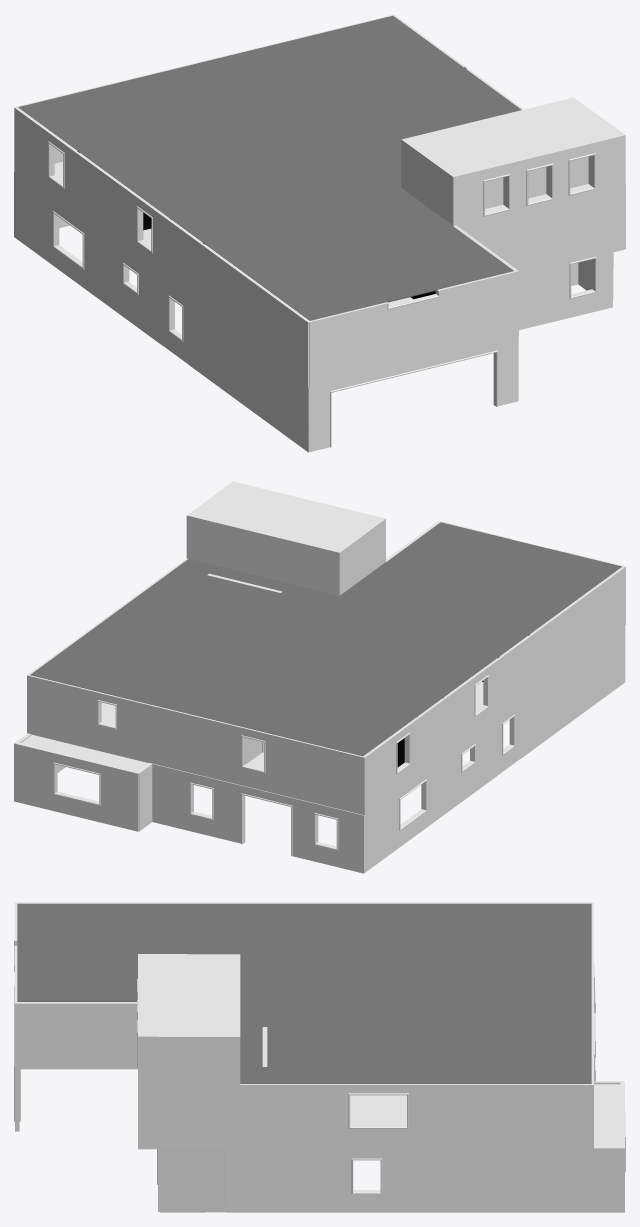
Rendered from Paredes_techoPA.obj.
3 views of the same model, one above another, from view 1: azimuth 30°, elevation 25°; view 2: azimuth 150°, elevation 25°; view 3: azimuth 270°, elevation 25° (orthographic). The views are drawn at different scales.
Visible parts, largest first — view 1: polySurface16 House:Mesh, polySurface74, polySurface124, polySurface96, polySurface193; view 2: polySurface16 House:Mesh, polySurface193, polySurface124, polySurface74, polySurface81, polySurface83, polySurface96, polySurface120; view 3: polySurface16 House:Mesh, polySurface96, polySurface74, polySurface83, polySurface81, polySurface120, polySurface193, polySurface124.
Part boxes in pixels (x1,y1,x2,y2): polySurface16 House:Mesh: [18, 15, 521, 320]; polySurface74: [307, 97, 625, 452]; polySurface124: [14, 107, 309, 450]; polySurface96: [390, 14, 625, 299]; polySurface193: [15, 15, 391, 227]; polySurface16 House:Mesh: [30, 522, 621, 756]; polySurface193: [14, 674, 365, 873]; polySurface124: [363, 566, 625, 873]; polySurface74: [186, 481, 625, 682]; polySurface81: [21, 735, 148, 771]; polySurface83: [123, 521, 440, 764]; polySurface96: [15, 558, 187, 772]; polySurface120: [101, 681, 483, 768]; polySurface16 House:Mesh: [17, 903, 591, 1083]; polySurface96: [138, 1083, 623, 1212]; polySurface74: [14, 903, 240, 1211]; polySurface83: [15, 1001, 593, 1067]; polySurface81: [19, 1068, 620, 1146]; polySurface120: [350, 1095, 407, 1124]; polySurface193: [589, 902, 625, 1212]; polySurface124: [15, 902, 592, 903].
Size of the model in its own units: 5.71 by 2.56 by 8.04.
3 materials, 2 textured.
